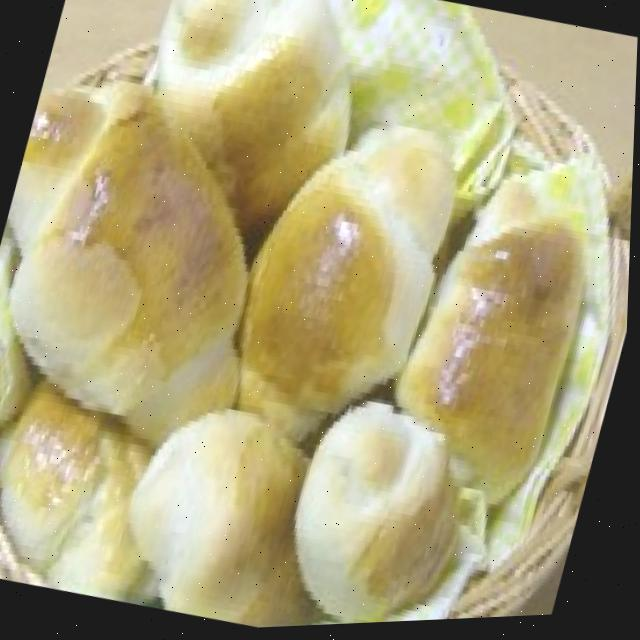面包点心: (0, 44, 605, 640)
